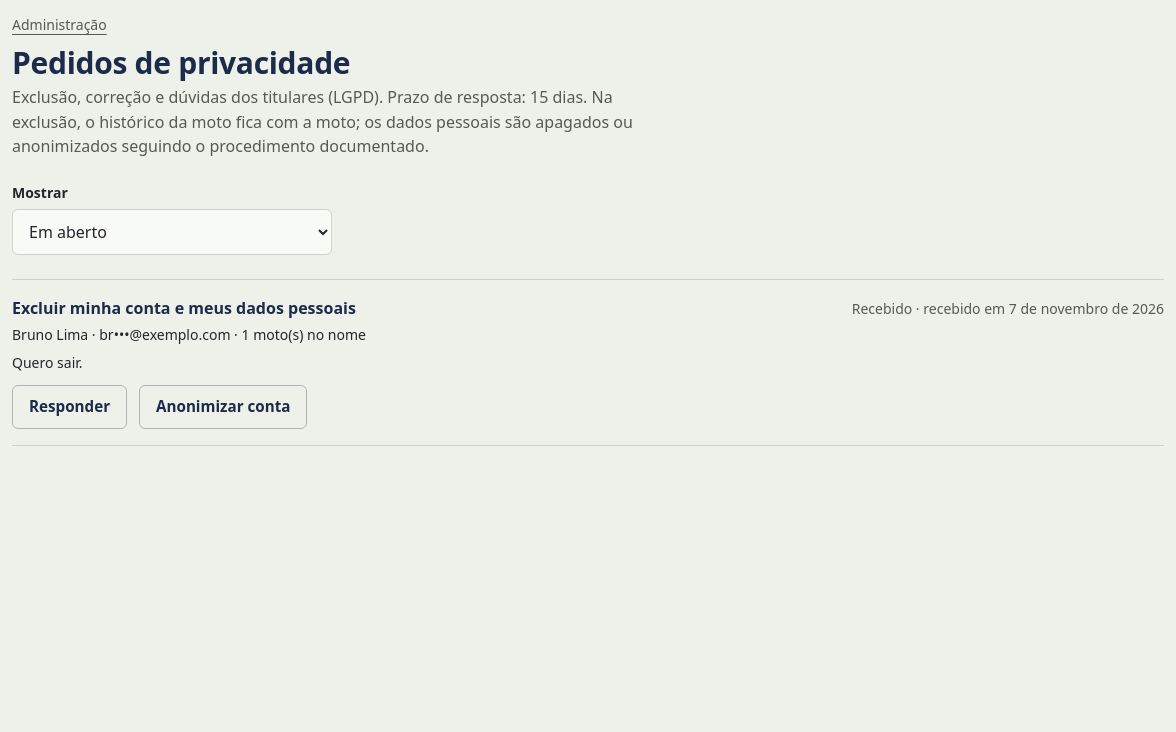
Pedidos de privacidade no admin › anonimização pede motivo e mostra o impedimento
Click the button "Anonimizar conta" at coordinates (223, 407), box [139,385,307,429]
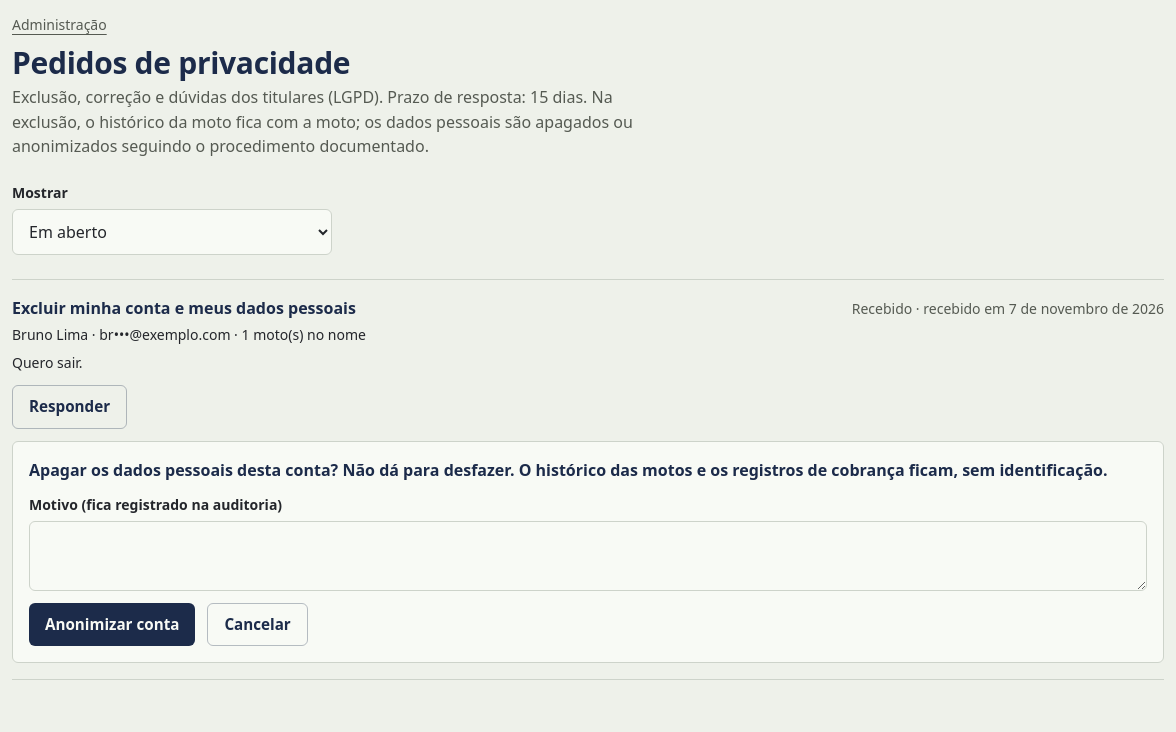
Check: the text "Não dá para desfazer" is shown, box [29,459,1108,481]
Type "Exclusão a pedido do titular" into the text box labelled "Motivo (fica registrado na auditoria)" at coordinates (588, 556), box [29,520,1147,590]
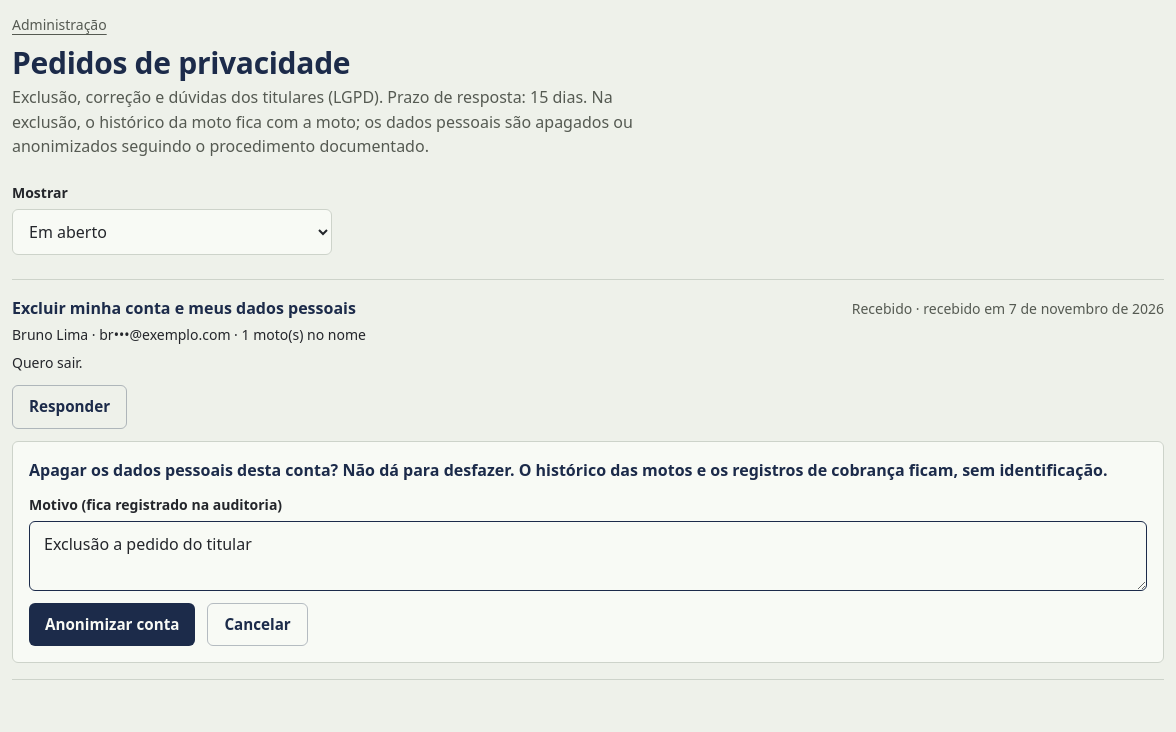
Click the button "Anonimizar conta" at coordinates (112, 624), box [29,602,195,646]
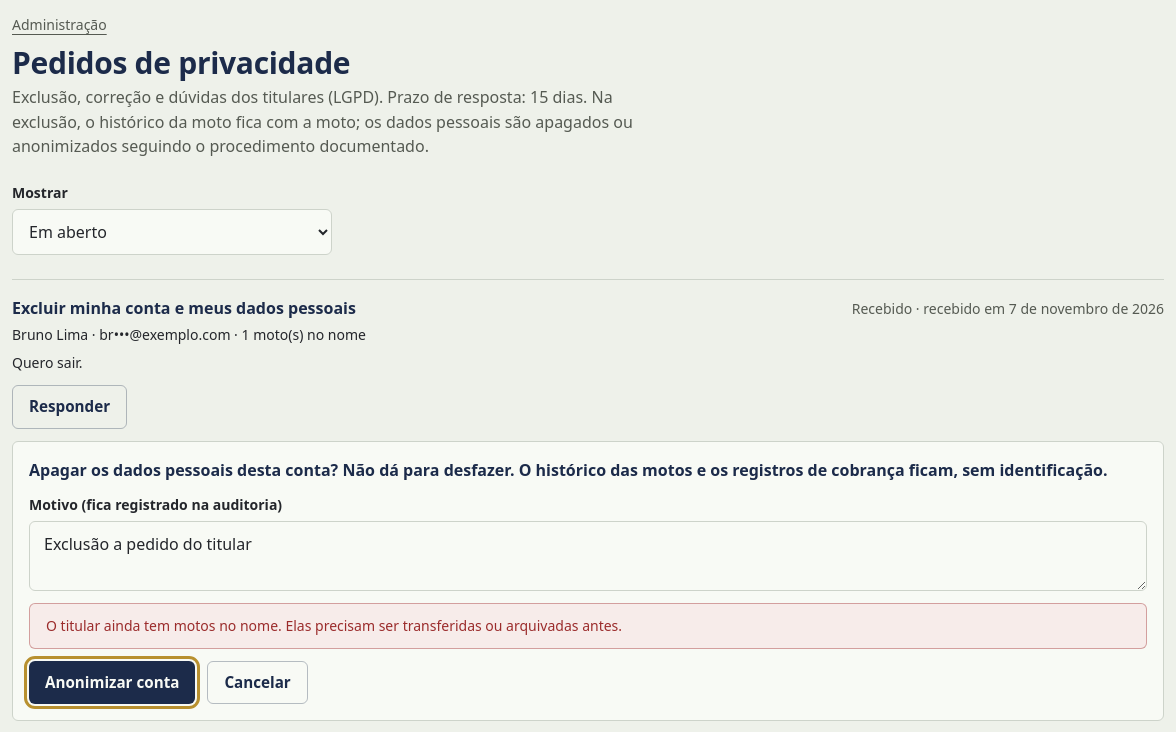
Check: the text "ainda tem motos no nome" is shown, box [46,616,622,634]
